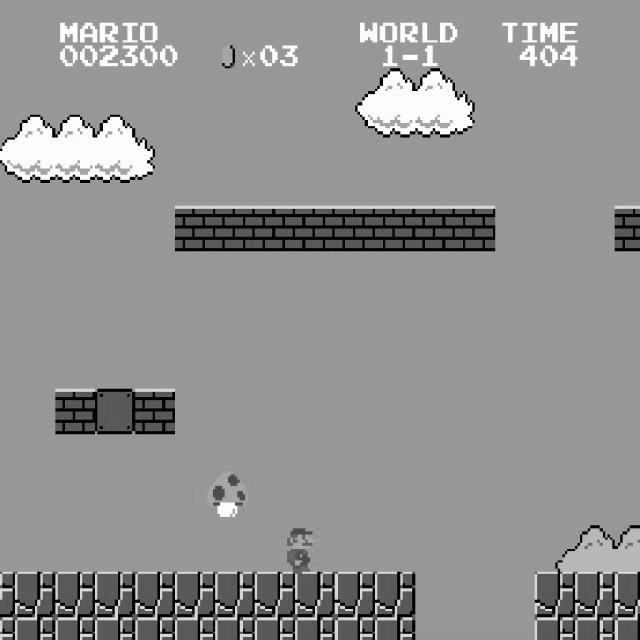1- brick_block: (54, 388, 96, 434), (134, 388, 176, 434), (174, 206, 216, 251), (214, 206, 256, 251), (254, 206, 296, 251), (294, 206, 336, 251), (334, 206, 376, 251), (374, 206, 416, 251), (414, 206, 456, 251), (454, 206, 496, 251), (614, 205, 640, 251)
11- little_mario: (277, 526, 320, 574)
12- mushroom: (205, 468, 248, 517)
17- undestructible_block: (54, 572, 96, 618), (94, 572, 136, 618), (134, 572, 176, 618), (174, 572, 216, 618), (214, 572, 256, 618), (254, 572, 296, 618), (294, 572, 336, 618), (334, 572, 376, 618), (374, 572, 416, 618), (534, 572, 576, 618), (574, 572, 616, 618), (15, 572, 56, 618), (614, 571, 640, 617), (54, 617, 96, 640), (94, 617, 136, 640), (134, 617, 176, 640), (174, 617, 216, 640), (214, 617, 256, 640), (254, 617, 296, 640), (294, 617, 336, 640), (334, 617, 376, 640), (374, 617, 416, 640), (534, 617, 576, 640), (574, 617, 616, 640), (15, 617, 56, 640), (0, 572, 15, 618), (614, 617, 640, 639), (0, 617, 15, 640)
3- empty_block: (94, 388, 136, 434)
